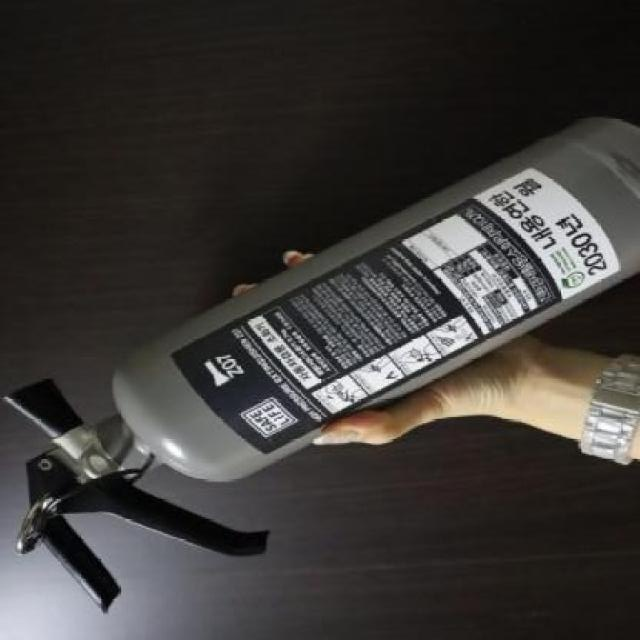fire extinguisher: (1, 116, 640, 614)
